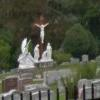Statue: (10, 12, 58, 71)
